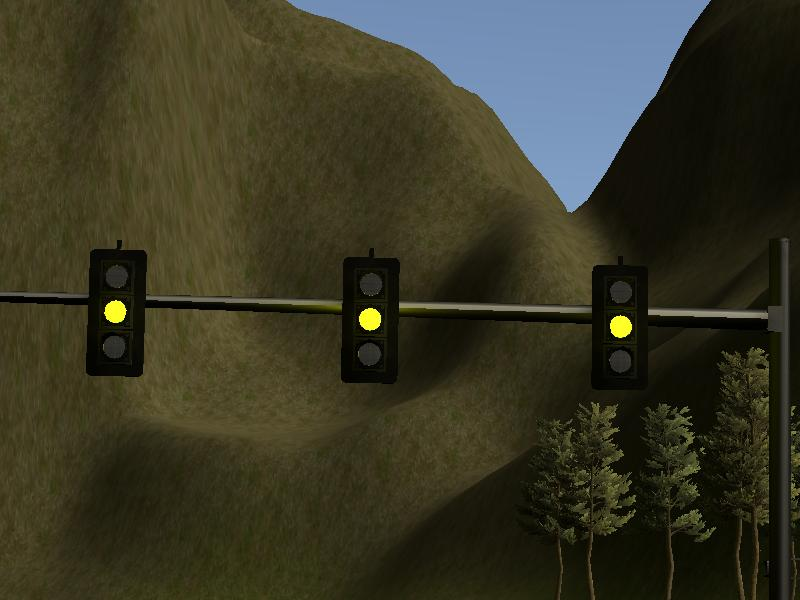yellow: (87, 247, 144, 377), (342, 255, 399, 385), (591, 263, 648, 393)
